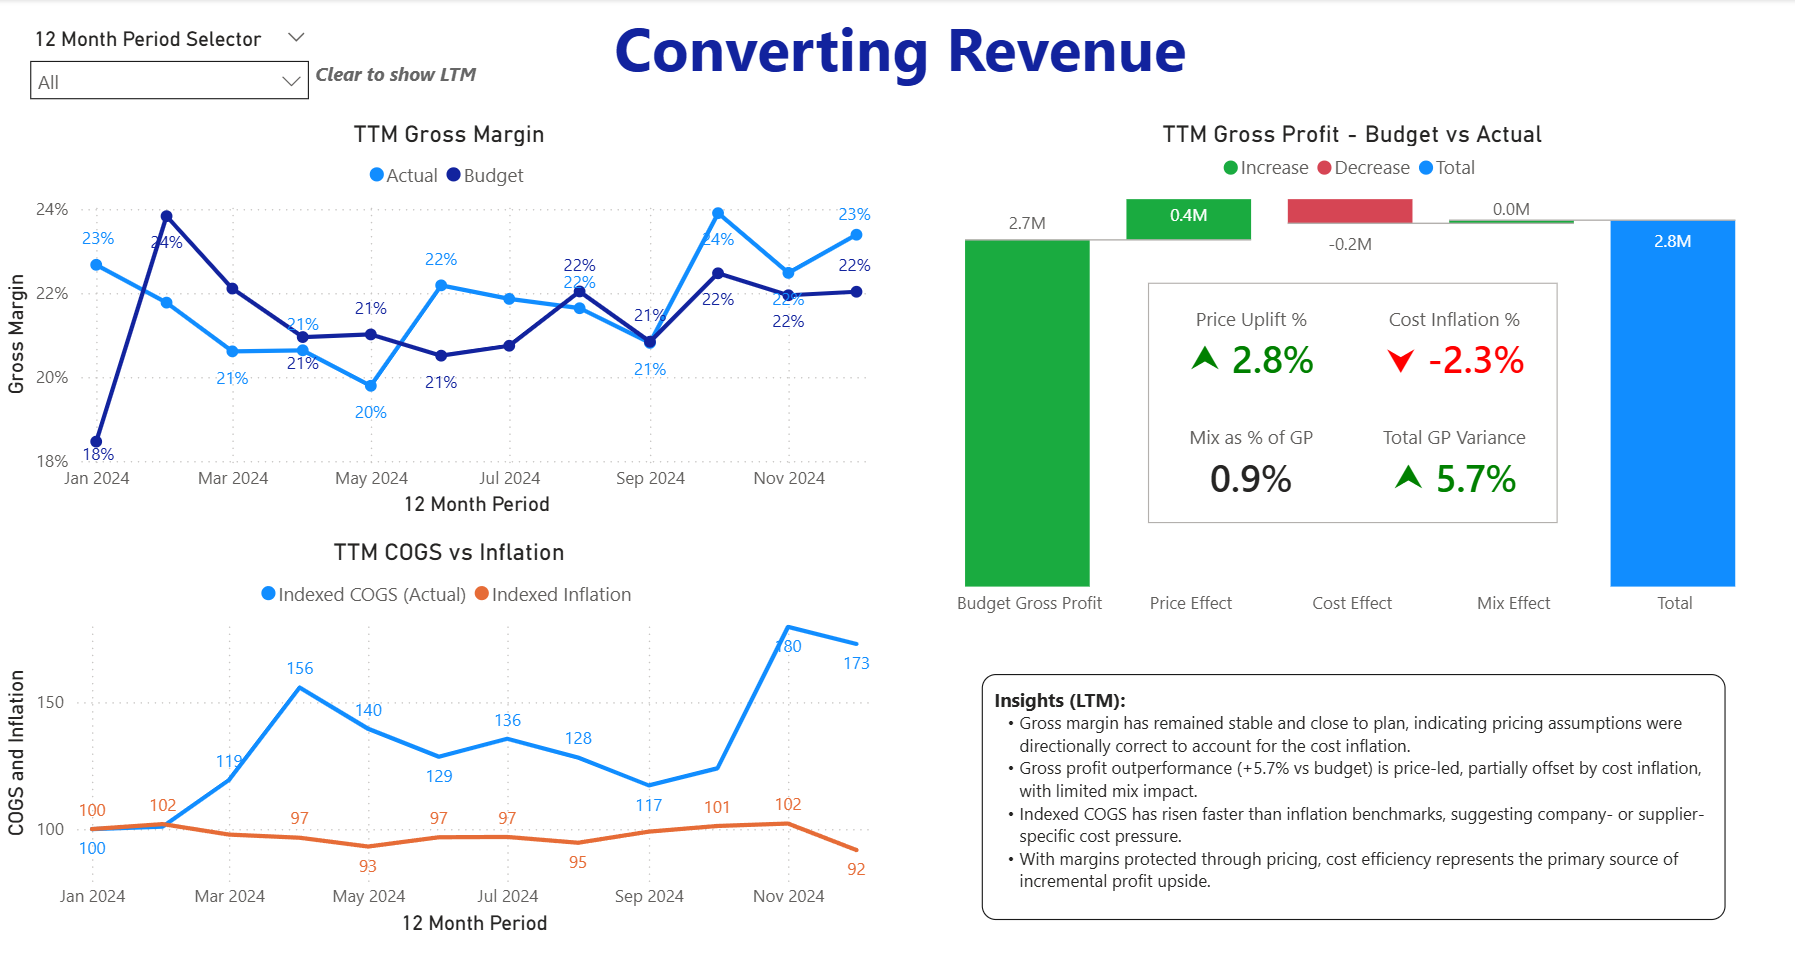

The page's visual inventory and layout, read from the dashboard file:
{"tool":"powerbi","page":{"name":"Revenue Conversion","canvas":[1280,720],"ordinal":2},"visuals":[{"type":"textbox","box":[342.3,0,595.4,73.5],"z":0},{"type":"waterfallChart","title":"TTM Gross Profit - Budget vs Actual","fields":{"Y":["GP_Waterfall_Axis.GP_Waterfall_Value"],"Category":["GP_Waterfall_Axis.Step"]},"box":[639.6,84.9,640.5,356.1],"z":1000},{"type":"lineChart","title":"TTM Gross Margin","fields":{"Y":["public vw_revenue_summary.Act_GPM TTM1","public vw_revenue_summary.Bud_GPM TTM"],"Category":["public vw_revenue_summary.date"]},"box":[0,84.9,639.6,286.2],"z":2000},{"type":"cardVisual","fields":{"Data":["public vw_revenue_summary.%_price_var","public vw_revenue_summary.%_cost_var","public vw_revenue_summary.% GP mix effect","public vw_revenue_summary.%_GP_var"]},"box":[798.2,184.1,324.3,205.5],"z":3000},{"type":"lineChart","title":"TTM COGS vs Inflation","fields":{"Y":["public vw_revenue_summary.Act_COGS_TTM_Indexed","public fact_industry.inflation_Indexed"],"Category":["public fact_industry.date"]},"box":[0,381.8,639.6,286.2],"z":4000},{"type":"slicer","fields":{"Values":["public dim_date.date"]},"box":[12.4,15.1,217.9,77.1],"z":5000},{"type":"textbox","box":[697.2,478.4,527.1,174.5],"z":6000},{"type":"textbox","box":[212.6,43.4,138.2,25.7],"z":7000}]}

Visuals, with their boxes on the page's 1280x720 design canvas (x1, y1, x2, y2). These are canvas units, not pixel positions in the 1795x972 screenshot, which may show the page scaled, cropped or inside an application window:
textbox: <region>342, 0, 938, 74</region>
"TTM Gross Profit - Budget vs Actual" waterfallChart: <region>640, 85, 1280, 441</region>
"TTM Gross Margin" lineChart: <region>0, 85, 640, 371</region>
cardVisual - public vw_revenue_summary.%_price_var x public vw_revenue_summary.%_cost_var: <region>798, 184, 1122, 390</region>
"TTM COGS vs Inflation" lineChart: <region>0, 382, 640, 668</region>
slicer - public dim_date.date: <region>12, 15, 230, 92</region>
textbox: <region>697, 478, 1224, 653</region>
textbox: <region>213, 43, 351, 69</region>
